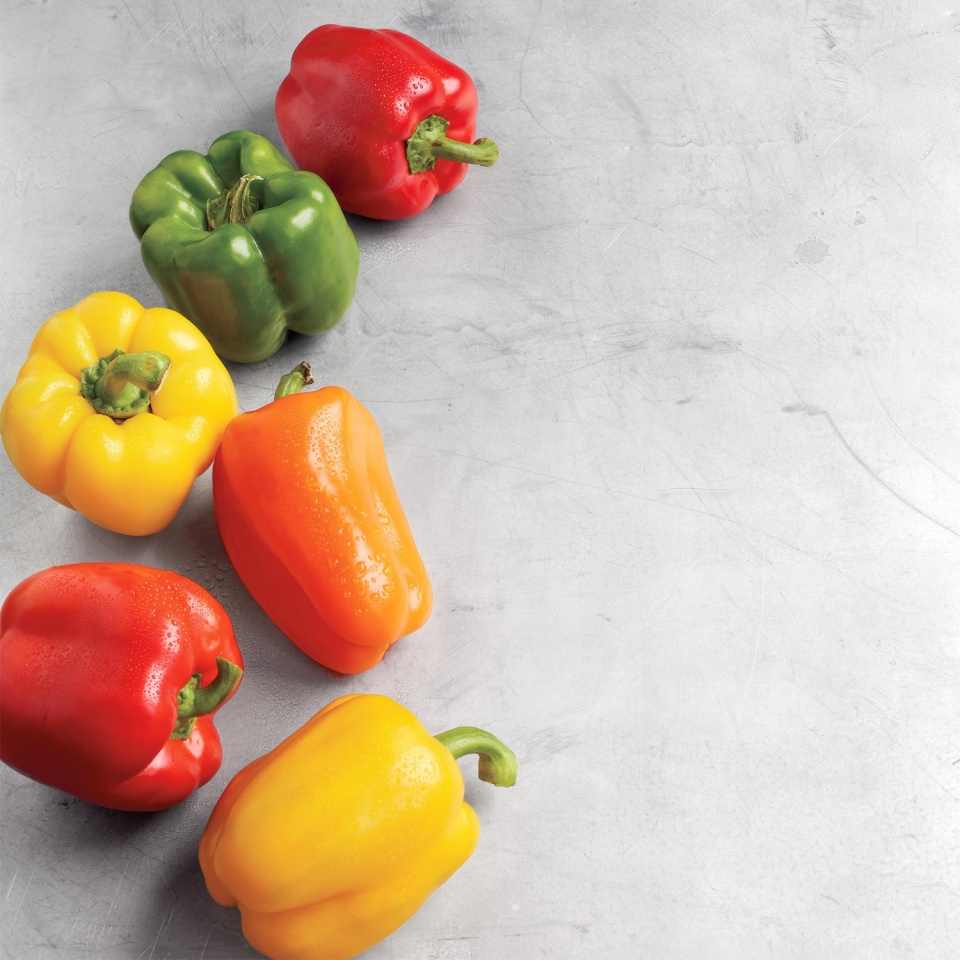fruit: (197, 690, 483, 960), (211, 384, 434, 678), (1, 558, 245, 816), (0, 288, 238, 540), (129, 129, 360, 370), (273, 23, 479, 221)
pedicle: (77, 349, 169, 425), (204, 169, 270, 231), (400, 112, 452, 175), (170, 670, 197, 745)
